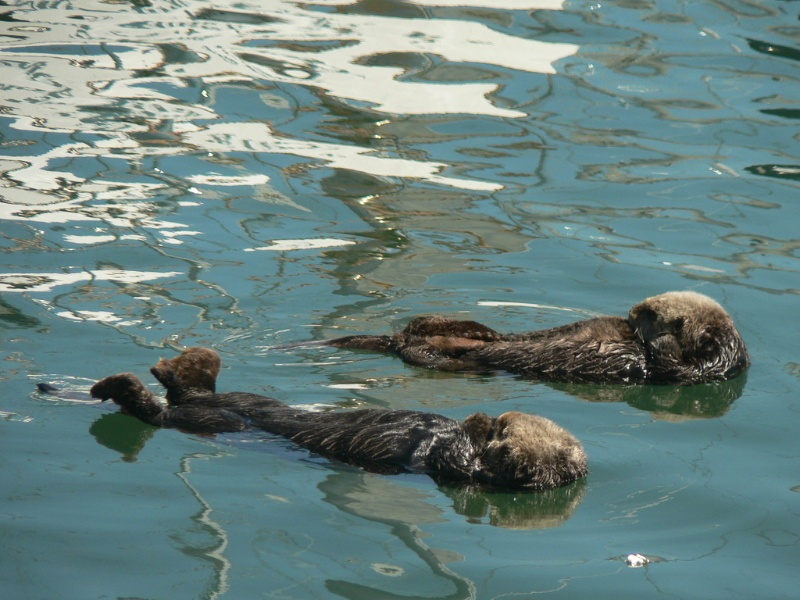minkish: (83, 346, 598, 494), (326, 280, 758, 392)
